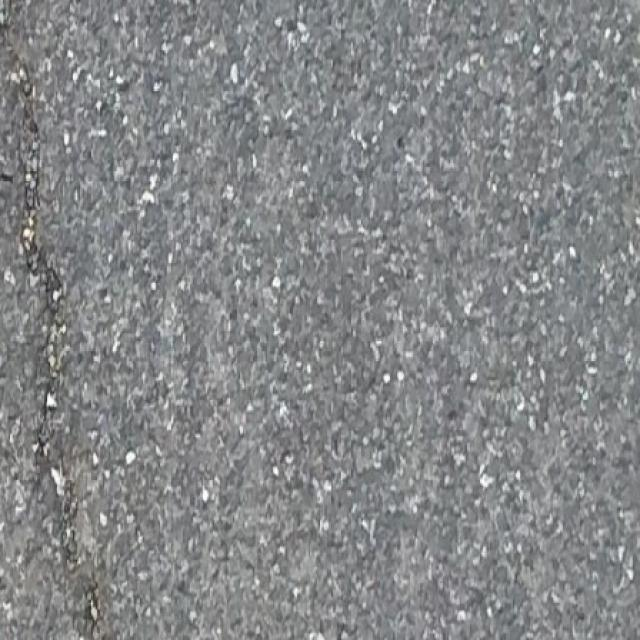Vertical Crack: (0, 0, 117, 640)
